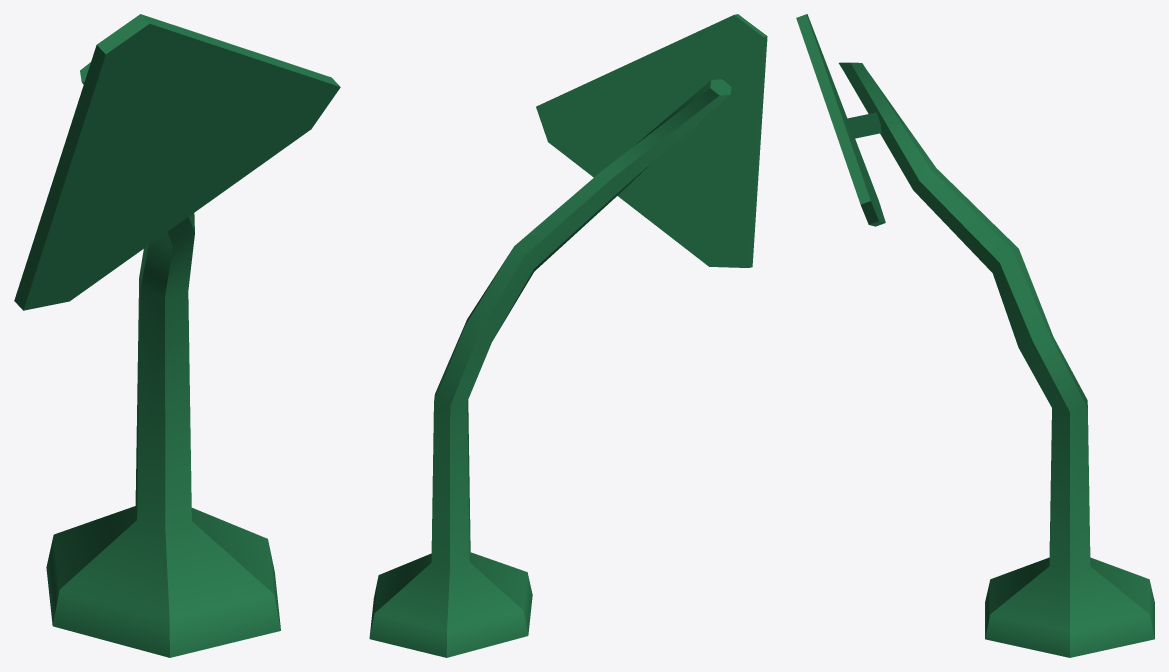
Rendered from Triangle_sign_broken.fbx.
3 views of the same model, side by side, from view 1: azimuth 30°, elevation 25°; view 2: azimuth 150°, elevation 25°; view 3: azimuth 270°, elevation 25° (orthographic). The views are drawn at different scales.
Parts seen in each view (by area): view 1: pCylinder2; view 2: pCylinder2; view 3: pCylinder2.
Part boxes in pixels (<box>): pCylinder2: <box>14,14,340,657</box>; pCylinder2: <box>369,14,767,657</box>; pCylinder2: <box>796,14,1154,657</box>.
Size of the model in its own units: 0.7868 by 1.46 by 0.8901.
